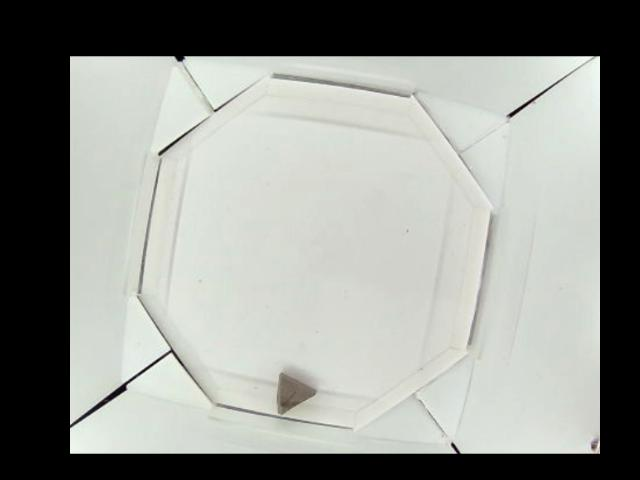China: (275, 370, 317, 416)
